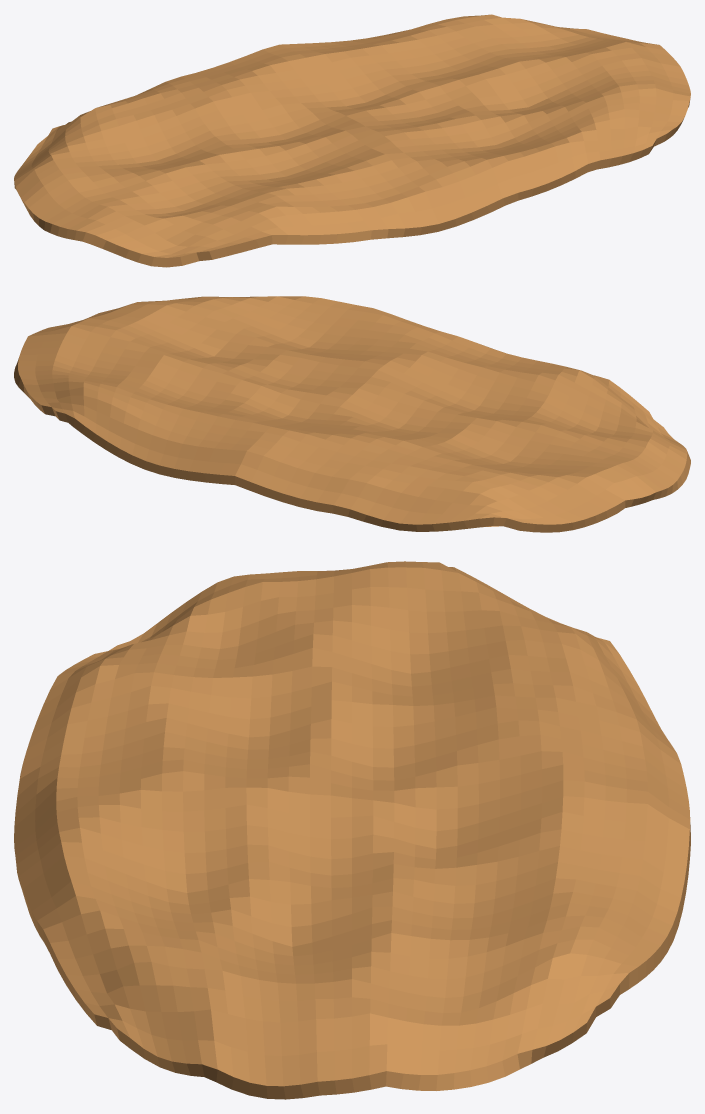
File: SandPatch3.fbx
The picture shows the model from 3 angles, top to bottom: view 1: azimuth 30°, elevation 25°; view 2: azimuth 150°, elevation 25°; view 3: azimuth 270°, elevation 25°; orthographic projection. The views are drawn at different scales.
Parts seen in each view (by area): view 1: SandPatch3; view 2: SandPatch3; view 3: SandPatch3.
Part boxes in pixels (<box>): SandPatch3: <box>14,14,690,267</box>; SandPatch3: <box>14,296,690,532</box>; SandPatch3: <box>14,561,690,1099</box>.
Size of the model in its own units: 77 by 43 by 5.51.
